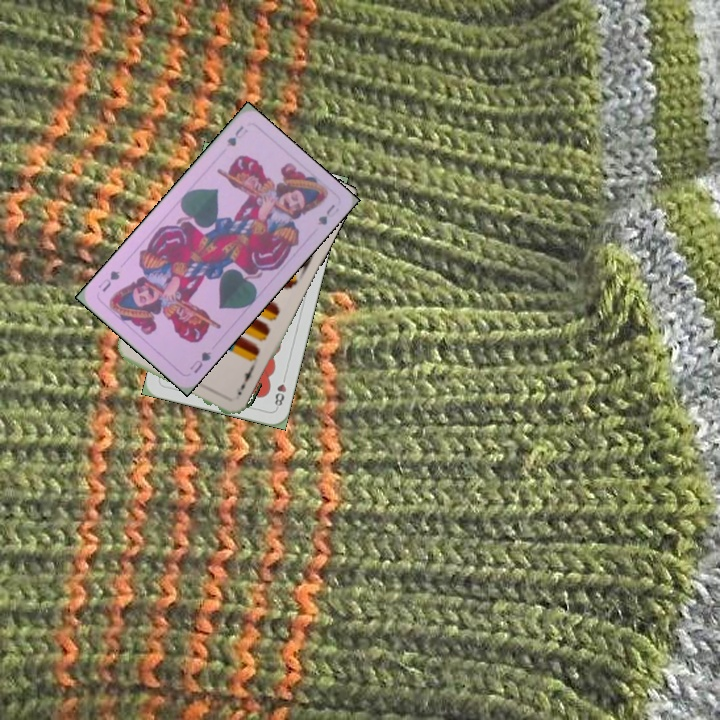E7: (233, 364, 256, 398)
GU: (185, 347, 214, 376), (222, 121, 250, 149)
H8: (270, 371, 289, 411)
